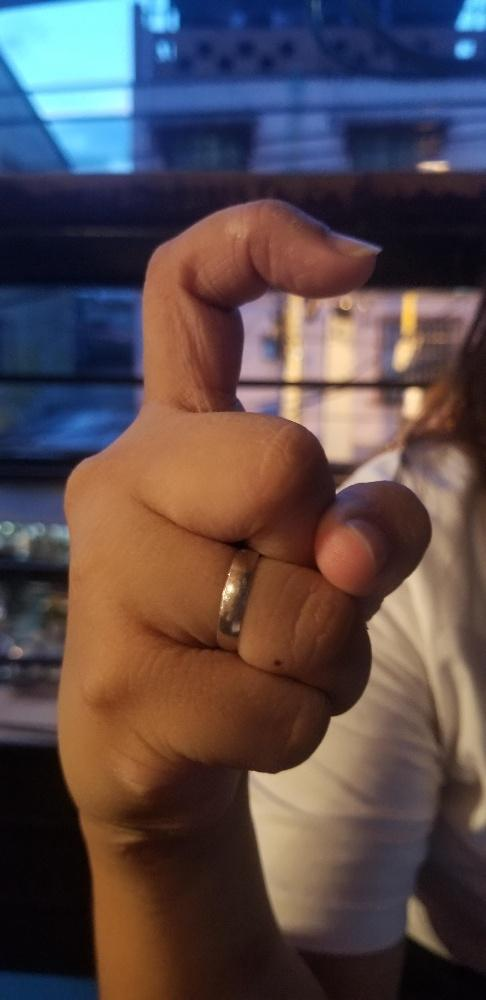x: (52, 195, 433, 819)
